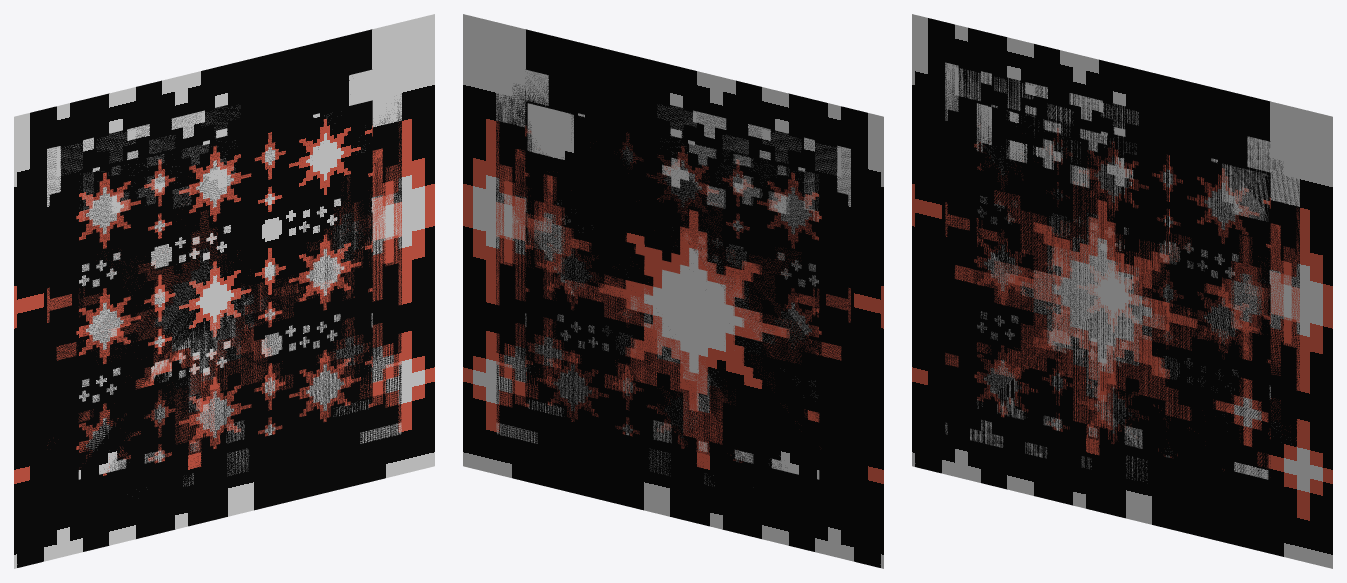
3 renders of one model, left to right at view 1: azimuth 30°, elevation 25°; view 2: azimuth 150°, elevation 25°; view 3: azimuth 330°, elevation 25°, orthographic.
Visible parts, largest first — view 1: ef_148; view 2: ef_148; view 3: ef_148.
Boxes of the visible parts, left/top/right/bottom form: ef_148: left=14, top=14, right=434, bottom=568; ef_148: left=463, top=14, right=883, bottom=568; ef_148: left=912, top=14, right=1332, bottom=568.
Size of the model in its own units: 0.2373 by 0.2437 by 0.
Materials: 1 (1 with a texture image).
